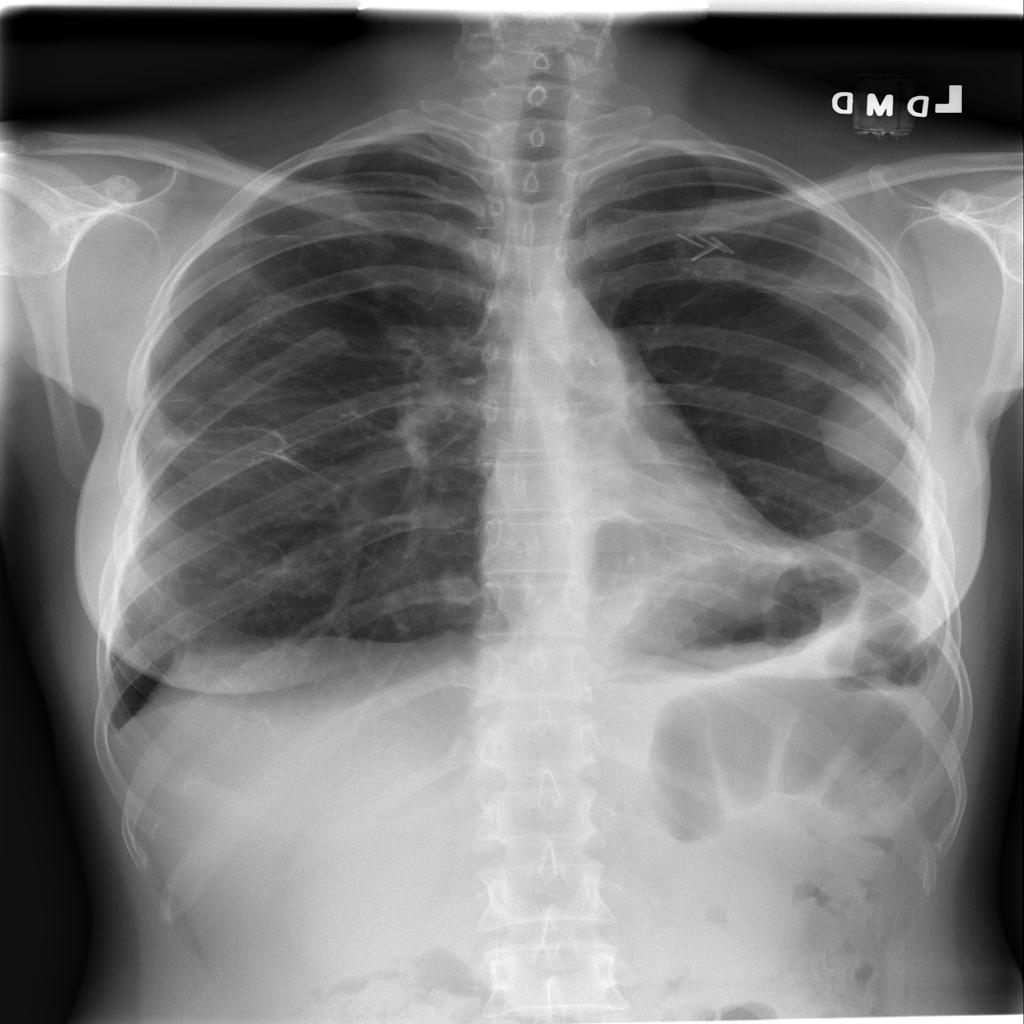nodule: (809, 371, 926, 492), (763, 345, 847, 403)
